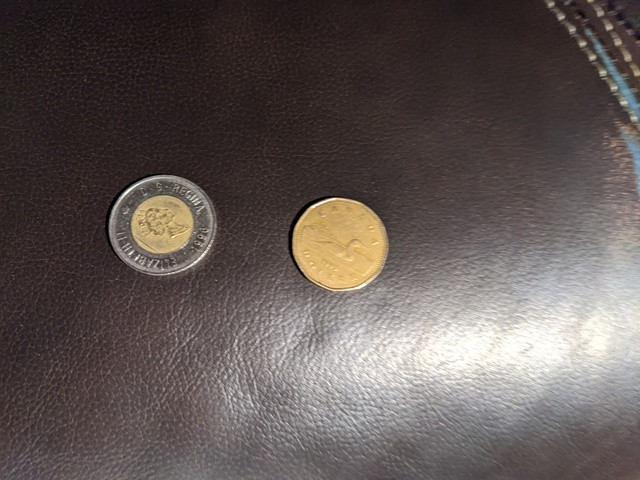loonie: (289, 189, 391, 294)
twonie: (104, 176, 224, 280)
